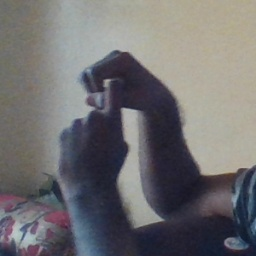Q: (52, 45, 154, 172)
